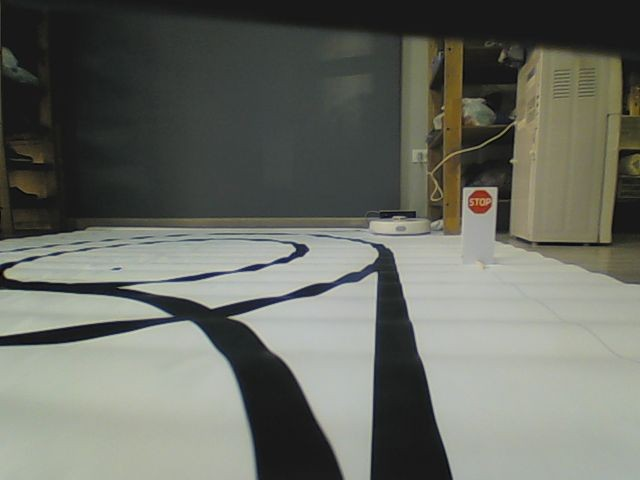Stop: (464, 188, 495, 214)
